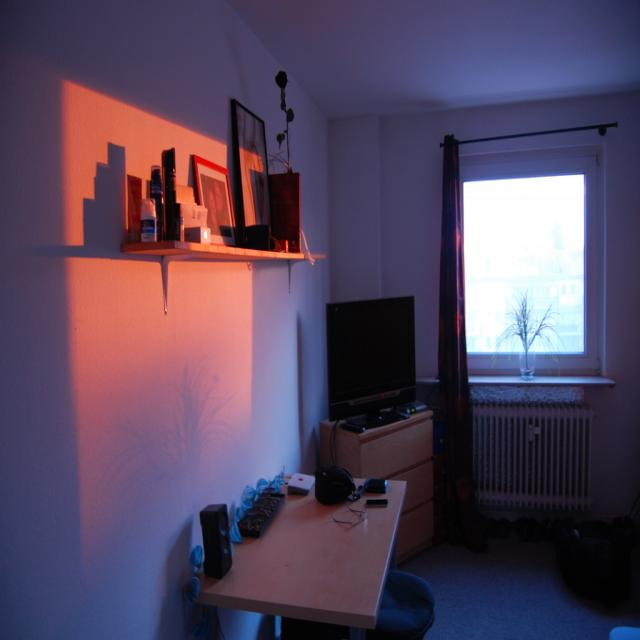desk: (176, 474, 460, 634)
tv: (326, 295, 416, 421)
